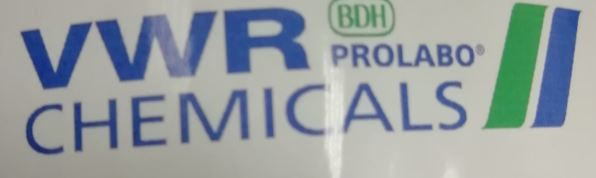VWR: (15, 1, 585, 160)
